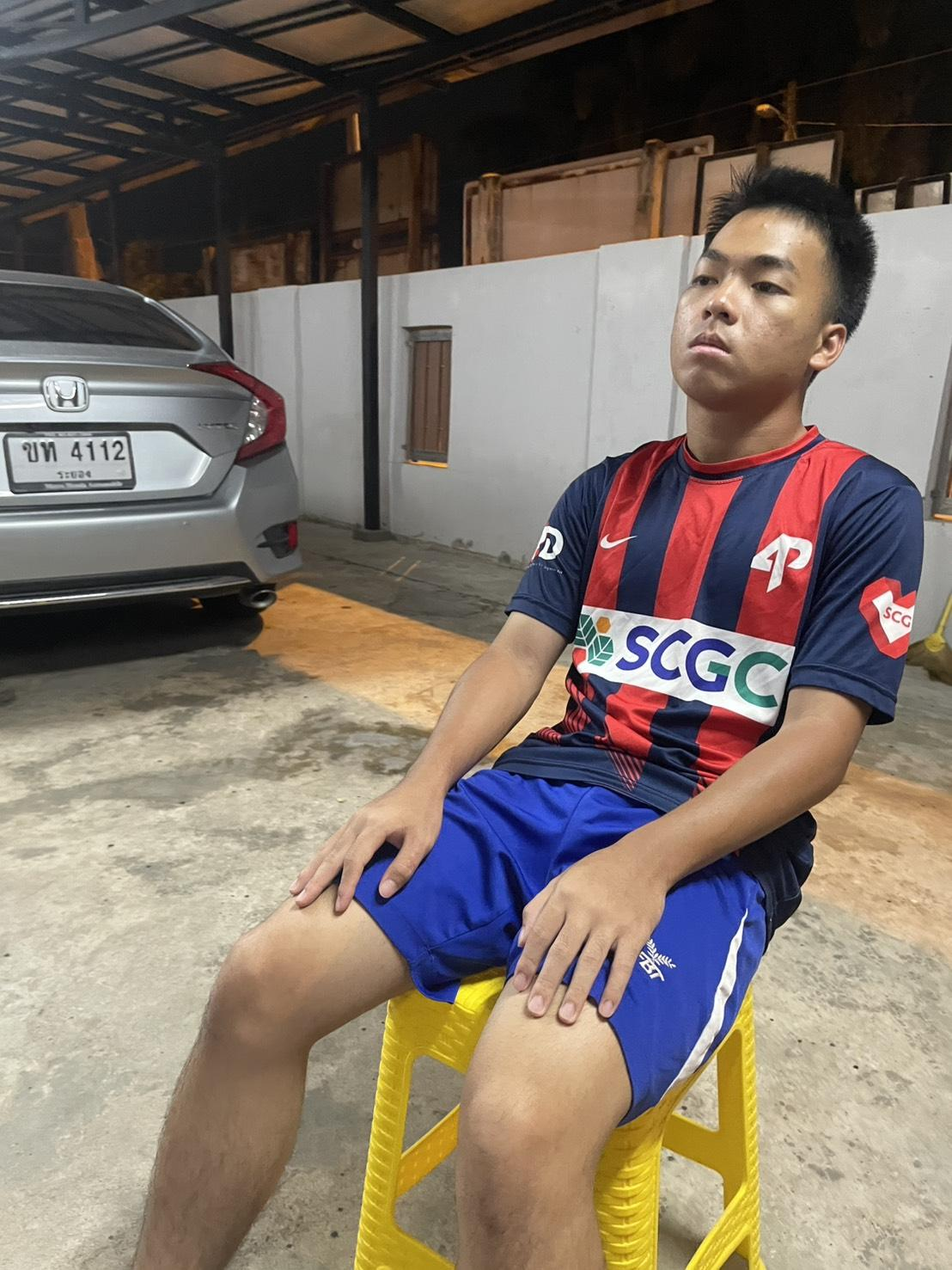BadPosture: (294, 169, 921, 1118)
